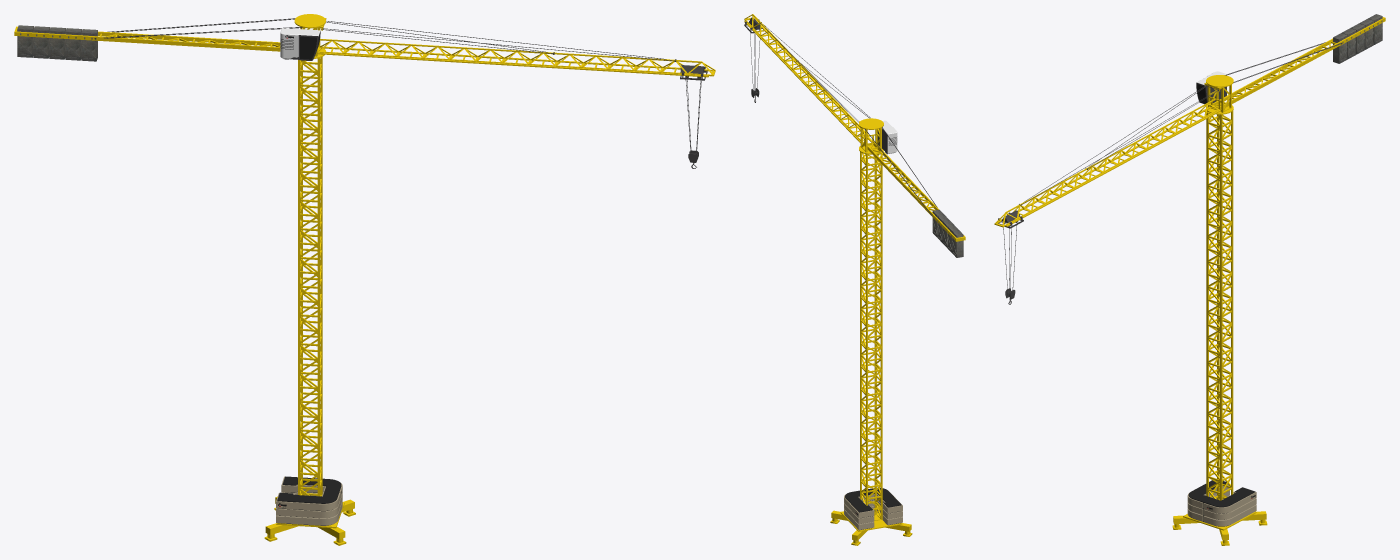
File: scenebd.obj
The picture shows the model from 3 angles, left to right: view 1: azimuth 30°, elevation 25°; view 2: azimuth 150°, elevation 25°; view 3: azimuth 270°, elevation 25°; orthographic projection. The views are drawn at different scales.
Visible parts, largest first — view 1: Mesh217 Group180 Group87 ESTRYYTSRA1 dwertytdes1 dwarestytuiufts, Mesh189 Group166 Group153 Group87 ESTRYYTSRA1 dwertytdes1 dwares, Mesh30 Group24 Group21 Group20 Group1 dwertytdes1 dwarestytuiuft; view 2: Mesh30 Group24 Group21 Group20 Group1 dwertytdes1 dwarestytuiuft, Mesh217 Group180 Group87 ESTRYYTSRA1 dwertytdes1 dwarestytuiufts, Mesh189 Group166 Group153 Group87 ESTRYYTSRA1 dwertytdes1 dwares, Mesh227 Component_60_1 Group87 ESTRYYTSRA1 dwertytdes1 dwarestyt; view 3: Mesh189 Group166 Group153 Group87 ESTRYYTSRA1 dwertytdes1 dwares, Mesh30 Group24 Group21 Group20 Group1 dwertytdes1 dwarestytuiuft.
Part boxes in pixels (x1,y1,x2,y2): Mesh217 Group180 Group87 ESTRYYTSRA1 dwertytdes1 dwarestytuiufts: (280,28,320,60); Mesh189 Group166 Group153 Group87 ESTRYYTSRA1 dwertytdes1 dwares: (317,43,708,77); Mesh30 Group24 Group21 Group20 Group1 dwertytdes1 dwarestytuiuft: (277,476,341,503); Mesh30 Group24 Group21 Group20 Group1 dwertytdes1 dwarestytuiuft: (845,488,901,512); Mesh217 Group180 Group87 ESTRYYTSRA1 dwertytdes1 dwarestytuiufts: (877,120,897,154); Mesh189 Group166 Group153 Group87 ESTRYYTSRA1 dwertytdes1 dwares: (744,21,875,146); Mesh227 Component_60_1 Group87 ESTRYYTSRA1 dwertytdes1 dwarestyt: (744,20,763,102); Mesh189 Group166 Group153 Group87 ESTRYYTSRA1 dwertytdes1 dwares: (998,97,1221,226); Mesh30 Group24 Group21 Group20 Group1 dwertytdes1 dwarestytuiuft: (1188,480,1255,507).
Size of the model in its own units: 52.45 by 51.85 by 41.28.
Materials: 7 (1 with a texture image).
